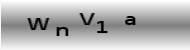1: (94, 20, 109, 34)
V: (79, 11, 96, 26)
W: (27, 17, 49, 31)
a: (124, 15, 137, 26)
n: (54, 26, 70, 37)
